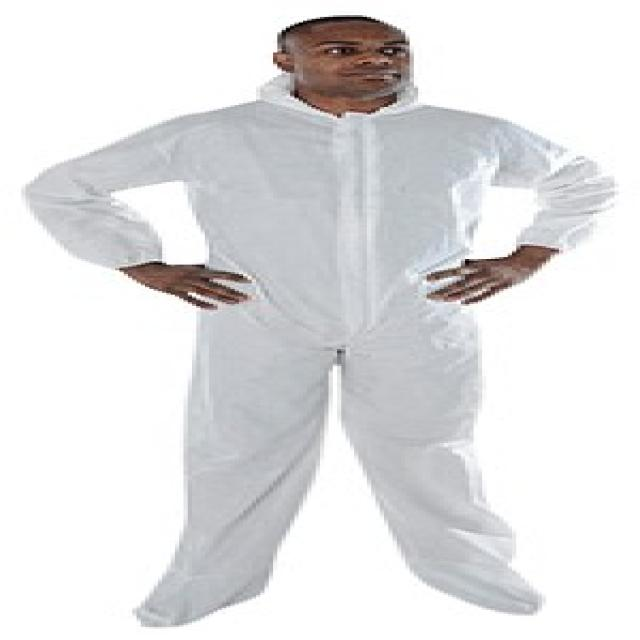Coverall: (17, 11, 614, 623)
